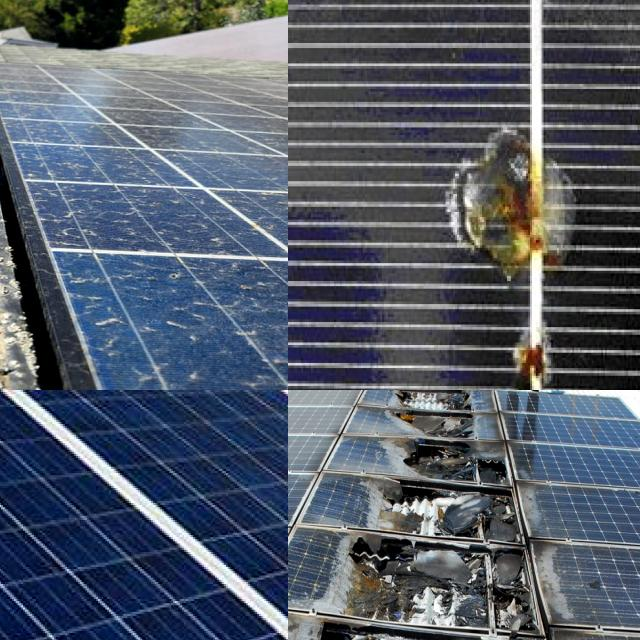crack: (0, 390, 288, 640), (0, 390, 288, 501), (0, 390, 193, 518), (87, 390, 288, 496)
dust: (63, 238, 288, 390), (33, 117, 288, 231), (0, 237, 135, 390), (0, 129, 97, 226), (0, 64, 148, 105), (0, 136, 40, 229)
shadow: (429, 36, 591, 390), (325, 523, 545, 640), (288, 157, 364, 321), (350, 471, 522, 534), (370, 429, 520, 472), (389, 390, 488, 439)
